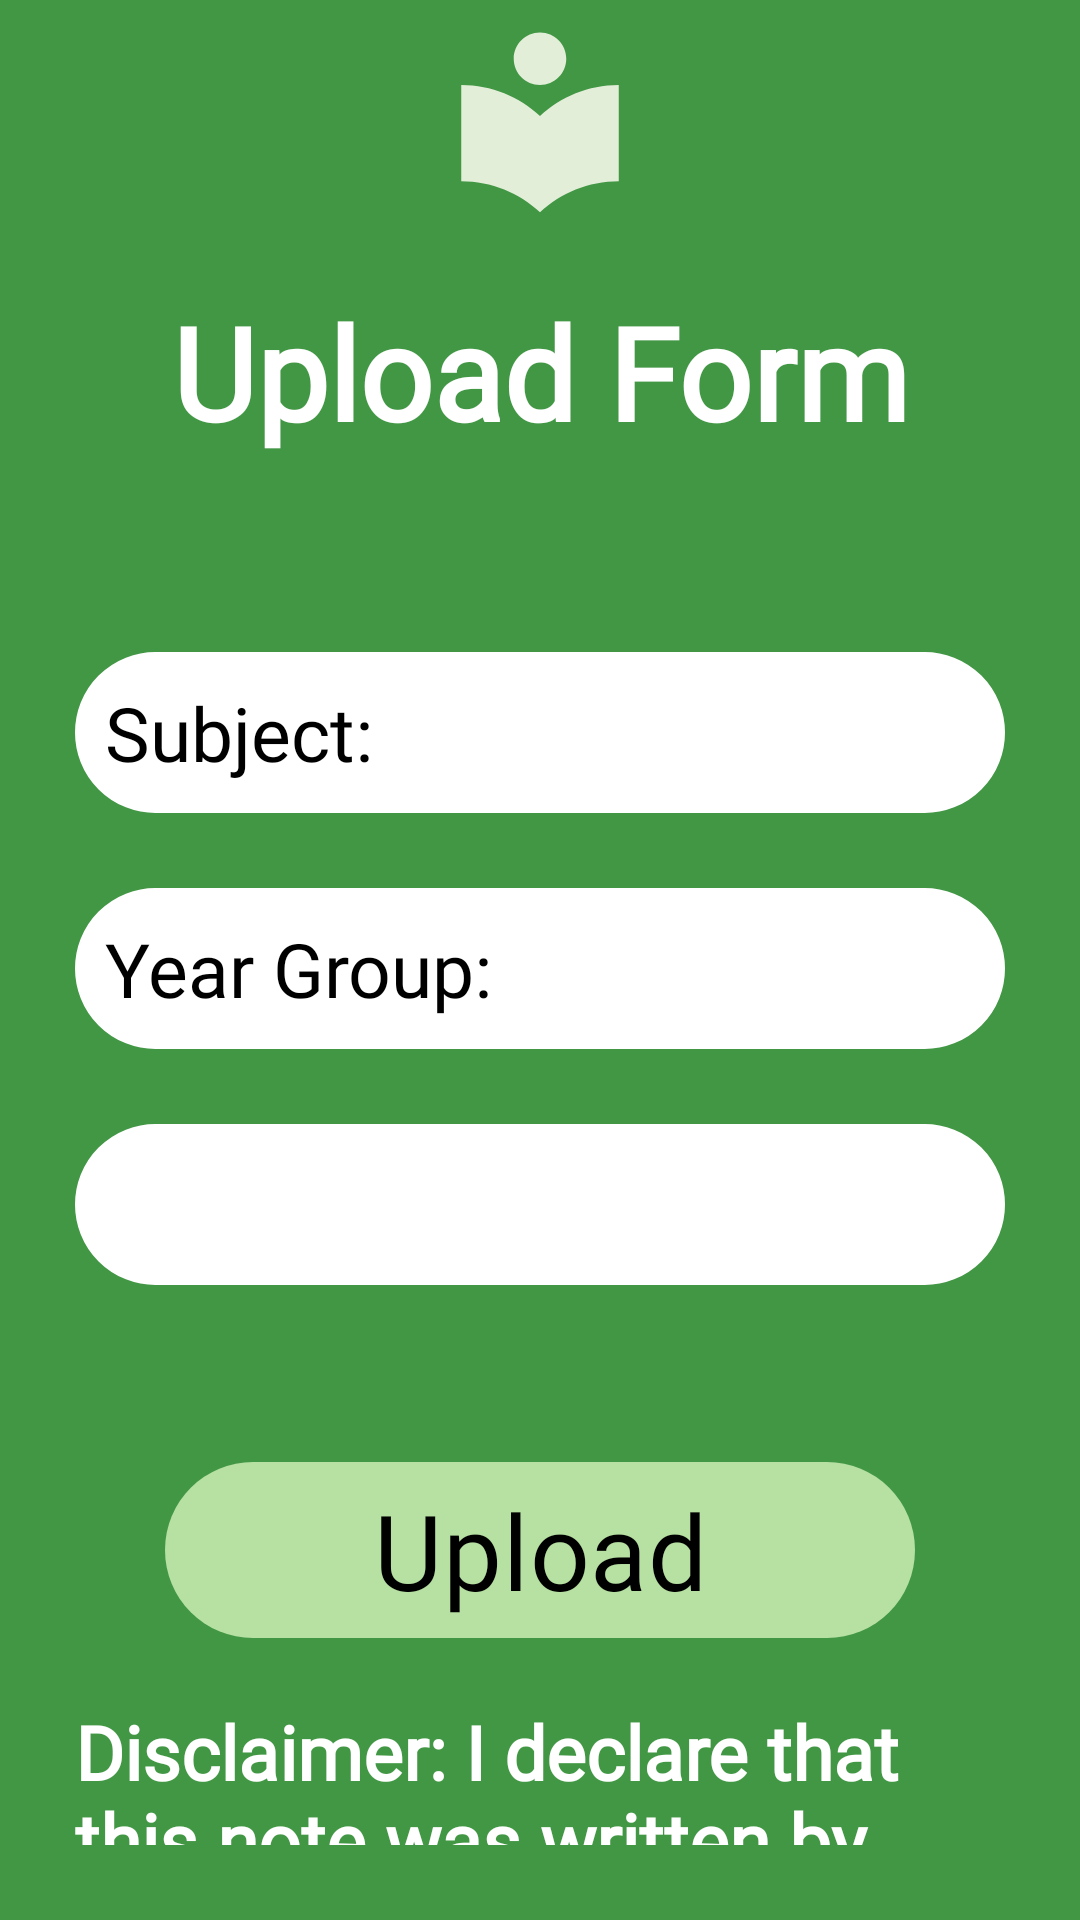

Named icons in this screenshot (1080×1920) and their centers, point (x, y):
local library: point (540, 122)
